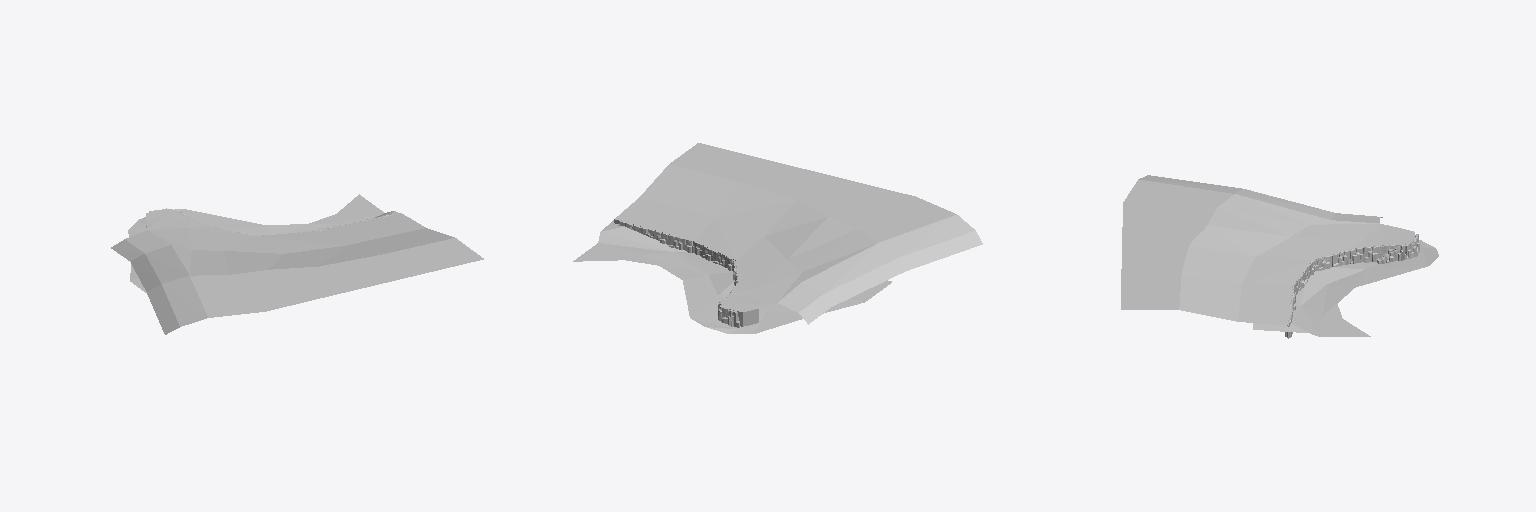
The model's file is beach terrain.obj.
The picture shows the model from 3 angles: view 1: azimuth 30°, elevation 25°; view 2: azimuth 150°, elevation 25°; view 3: azimuth 270°, elevation 25°; orthographic projection.
Parts seen in each view (by area): view 1: group90 pPlane1, group90 pPlane2; view 2: group90 pPlane1, group90 pPlane2; view 3: group90 pPlane1, group90 pPlane2.
Boxes of the visible parts, x1,y1,x2,y2 form: group90 pPlane1: [111, 209, 483, 334]; group90 pPlane2: [128, 194, 398, 292]; group90 pPlane1: [614, 143, 982, 326]; group90 pPlane2: [573, 220, 891, 333]; group90 pPlane1: [1121, 175, 1414, 337]; group90 pPlane2: [1253, 240, 1438, 336].
Size of the model in its own units: 260 by 30.3 by 234.